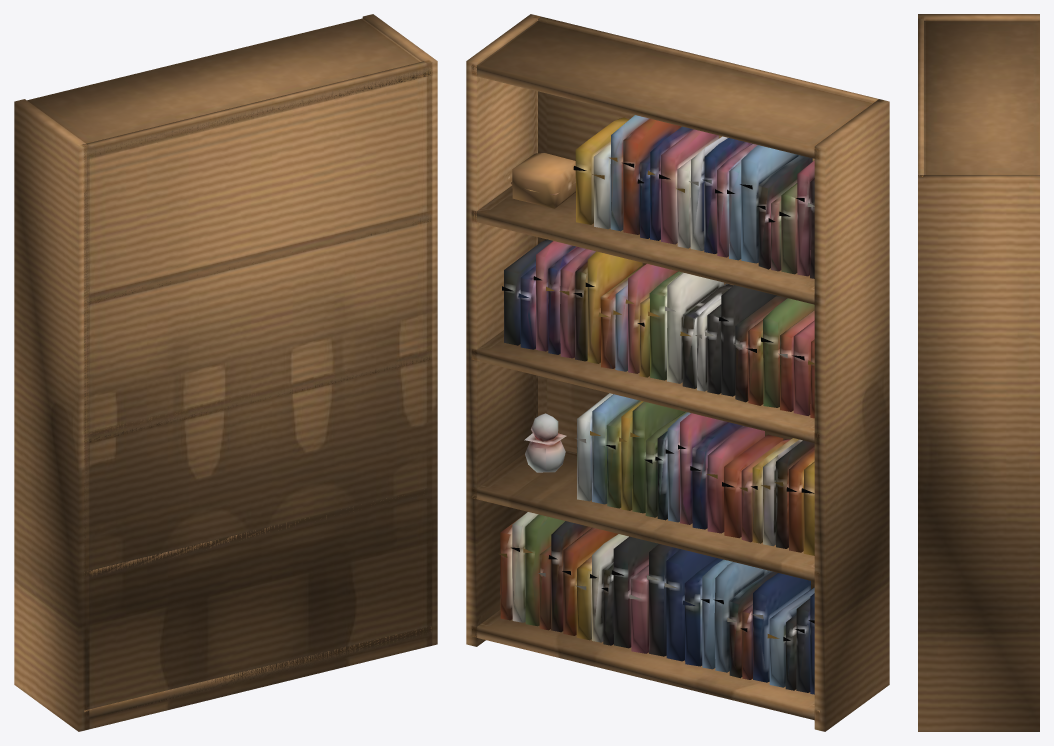
Rendered from bookshelf_a.glb.
3 renders of one model, left to right at view 1: azimuth 30°, elevation 25°; view 2: azimuth 150°, elevation 25°; view 3: azimuth 270°, elevation 25°, orthographic. The views are drawn at different scales.
Visible parts, largest first — view 1: prop_bookshelf_a_wood; view 2: prop_bookshelf_a_wood, prop_bookshelf_a_felt; view 3: prop_bookshelf_a_wood.
Boxes of the visible parts, x1,y1,x2,y2 form: prop_bookshelf_a_wood: (14,14,437,731); prop_bookshelf_a_wood: (466,14,889,731); prop_bookshelf_a_felt: (498,115,814,694); prop_bookshelf_a_wood: (918,14,1039,731).
Bounding box in the file's own units: 2.06 × 3.2 × 0.64.
Materials: 2 (2 with a texture image).
